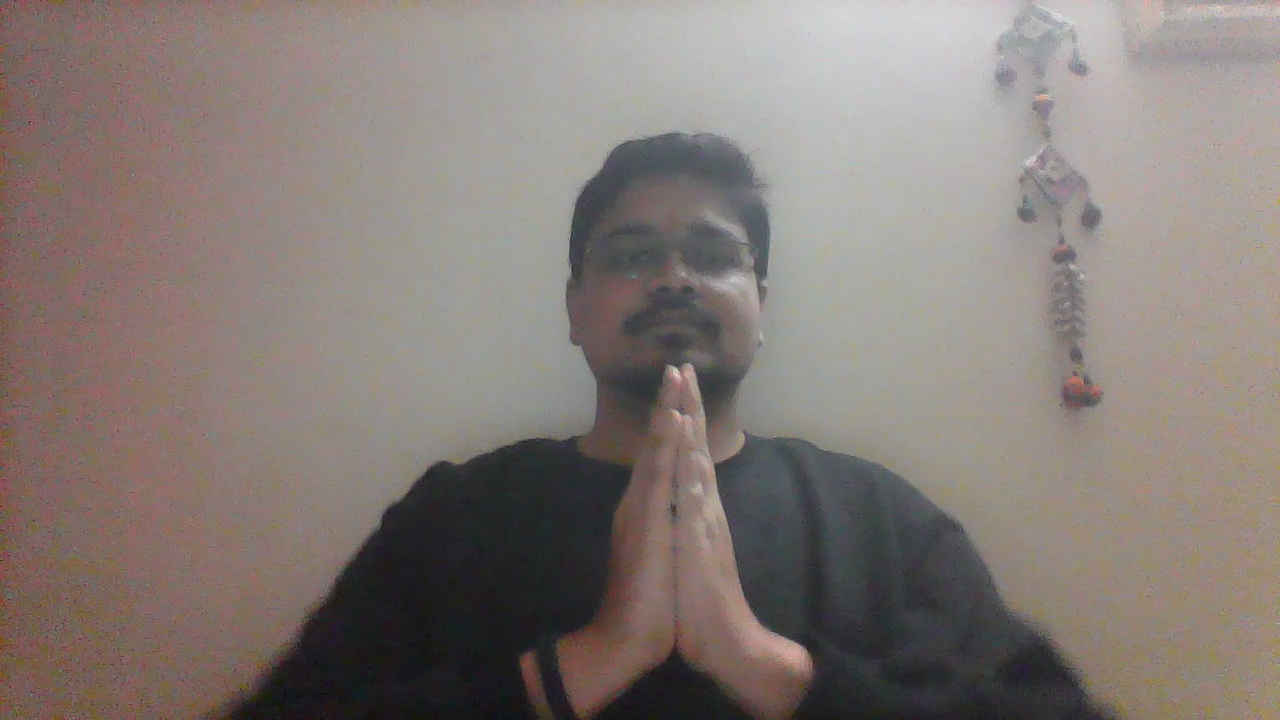Namaste: (577, 363, 775, 697)
